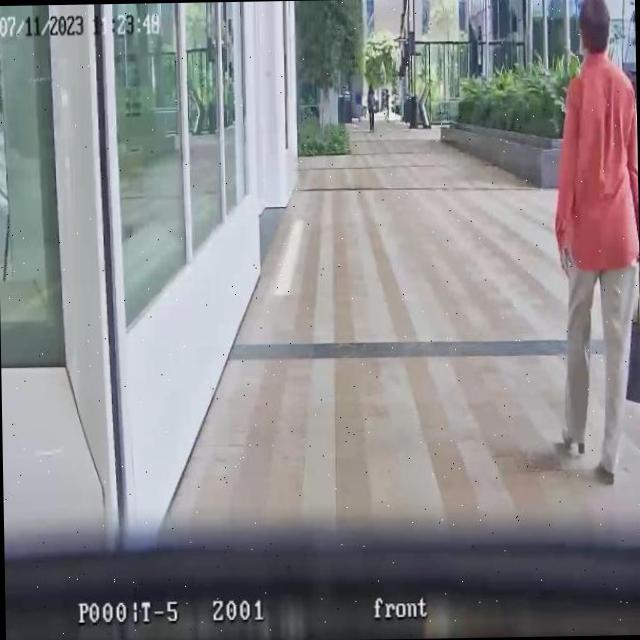person: (548, 0, 640, 483), (366, 84, 376, 132), (384, 88, 391, 122), (362, 90, 366, 118)
